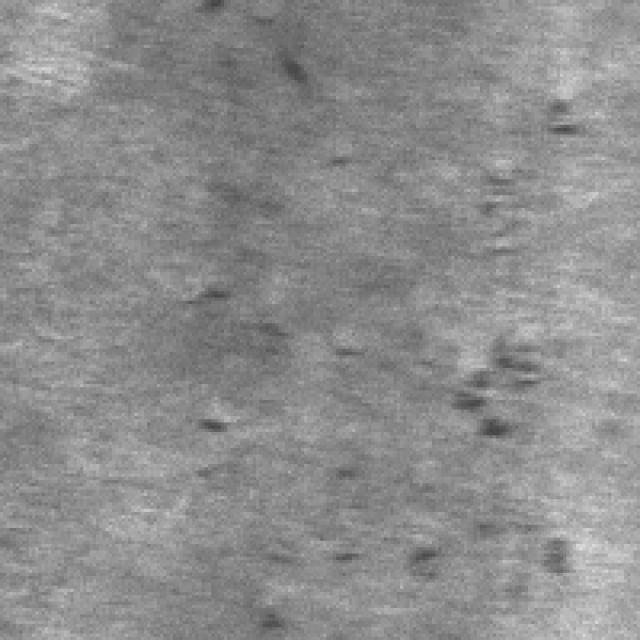rolled-in_scale: (426, 86, 579, 580), (173, 269, 333, 445)
